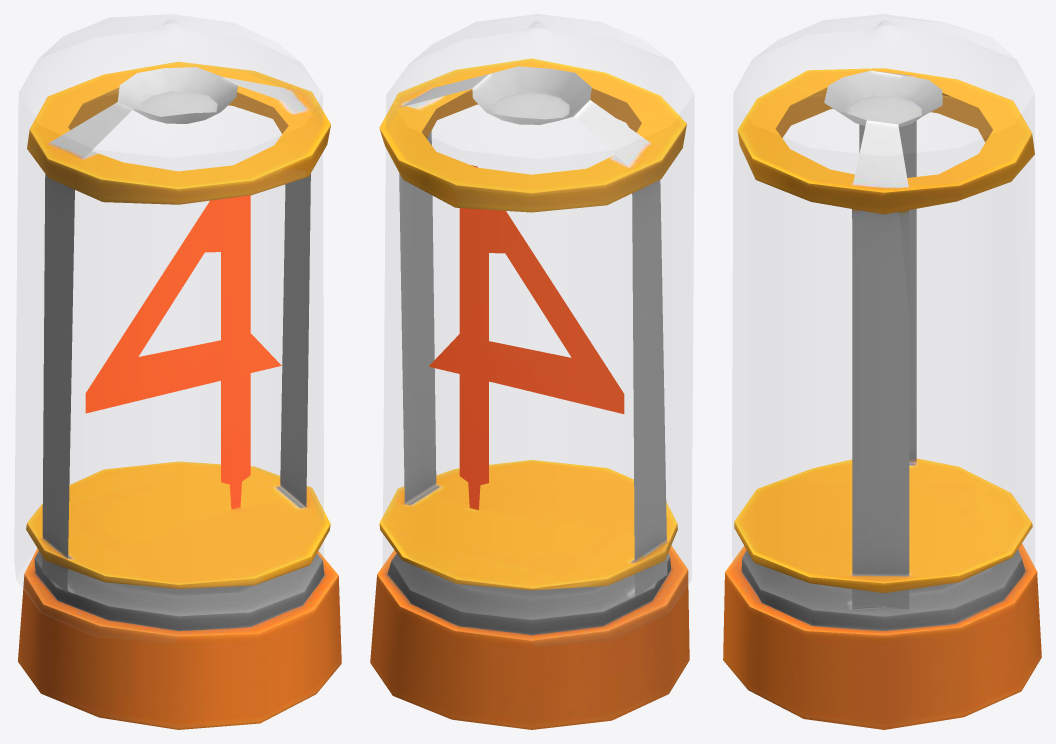
File: obj_num04_base.gltf
3 renders of one model, left to right at view 1: azimuth 30°, elevation 25°; view 2: azimuth 150°, elevation 25°; view 3: azimuth 270°, elevation 25°, orthographic.
Visible parts, largest first — view 1: obj_num04_base, obj_num04_glass; view 2: obj_num04_base, obj_num04_glass; view 3: obj_num04_base, obj_num04_glass.
Part boxes in pixels (x1,y1,x2,y2): obj_num04_base: (18, 61, 341, 729); obj_num04_glass: (15, 14, 323, 611); obj_num04_base: (370, 58, 689, 729); obj_num04_glass: (383, 14, 693, 612); obj_num04_base: (723, 68, 1041, 729); obj_num04_glass: (732, 14, 1034, 567).
Size of what is drawn, in the model's own units: 0.329 by 0.7182 by 0.3257.
2 materials, 1 textured.
